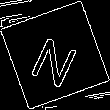N_NE: (26, 24, 84, 86)
